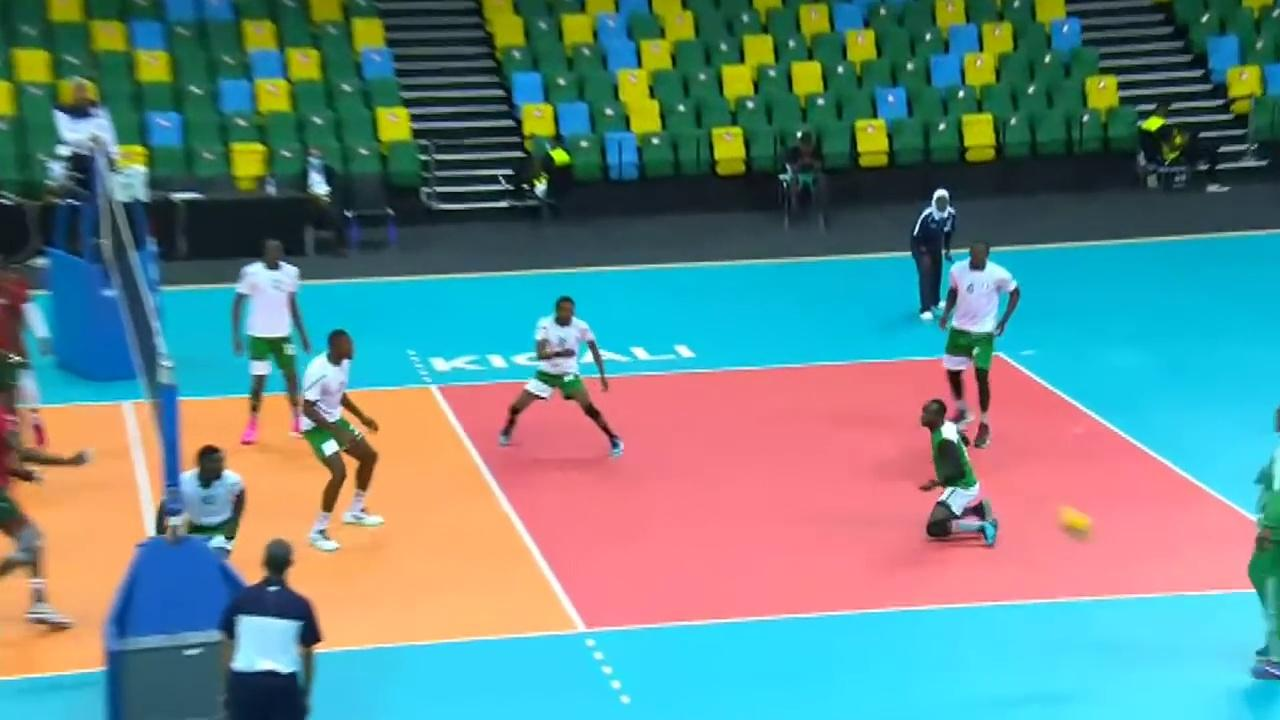player: (497, 292, 629, 456), (292, 323, 386, 545), (0, 403, 86, 625), (931, 237, 1018, 451), (232, 235, 315, 452), (915, 397, 1000, 551), (176, 446, 252, 609), (0, 264, 60, 444)
refree: (216, 533, 323, 720), (57, 77, 120, 229), (909, 189, 957, 321)
